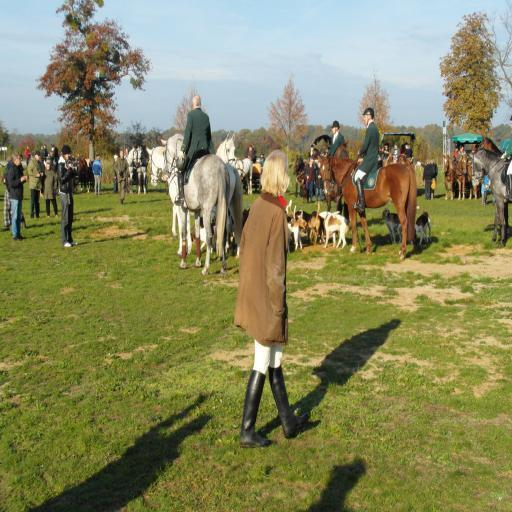horse: (146, 146, 243, 260), (317, 154, 417, 262), (160, 132, 232, 278), (442, 131, 512, 250), (470, 150, 512, 244), (476, 134, 506, 234), (215, 132, 245, 178), (291, 154, 315, 202), (454, 154, 480, 198), (68, 158, 88, 196), (440, 154, 456, 198), (215, 132, 235, 166), (125, 146, 138, 196), (236, 157, 252, 195), (49, 143, 60, 193), (138, 144, 148, 196), (78, 158, 92, 194)
